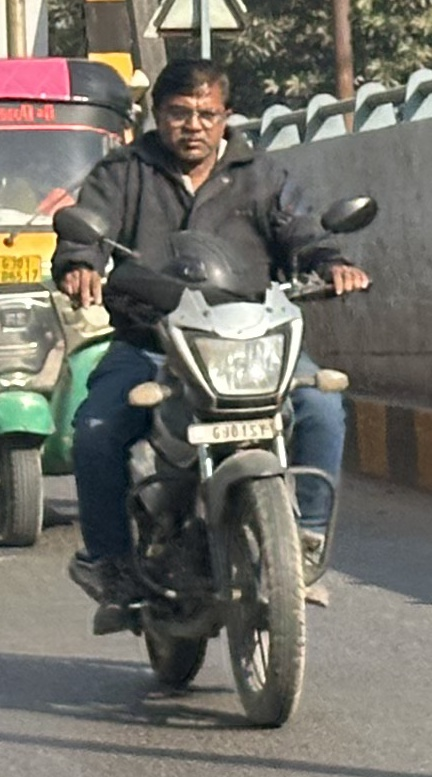BikeWithRider: (45, 53, 383, 738)
NoHelmet: (144, 52, 241, 179)
